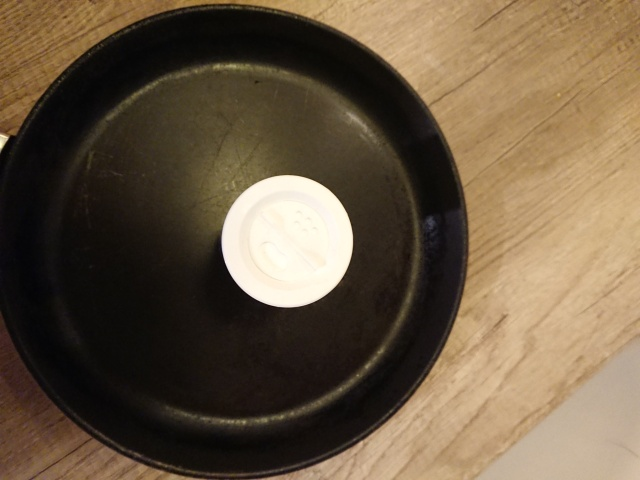Solana Pag Fine Sea Salt 250g: (216, 170, 359, 312)
